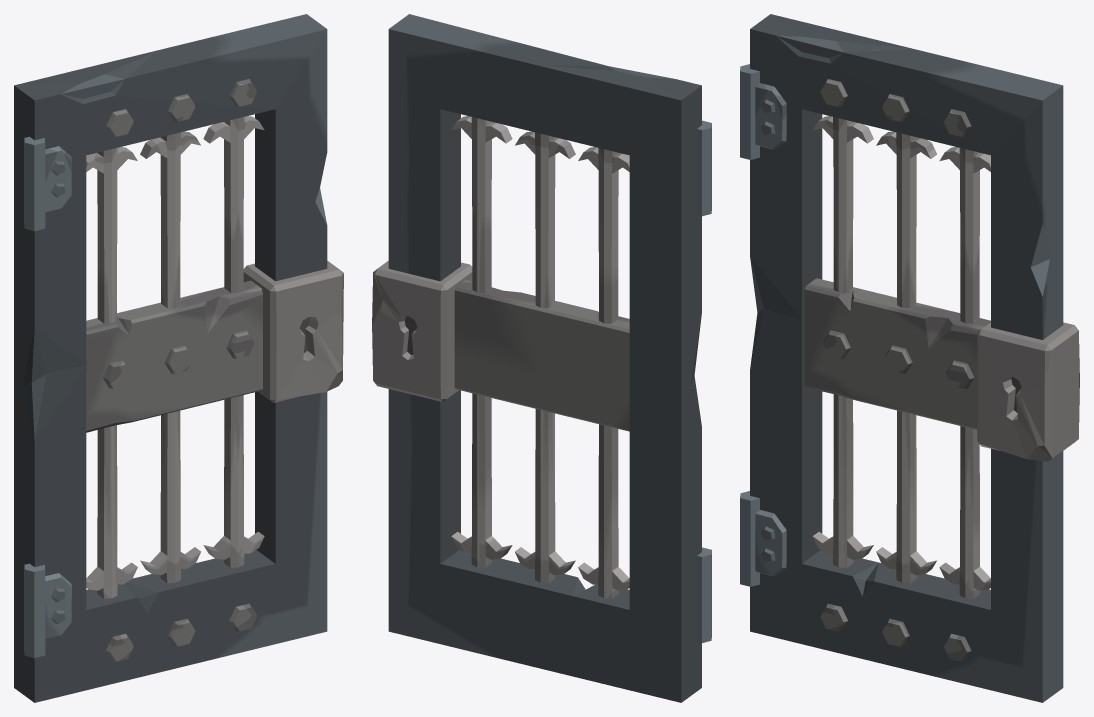
Rendered from crypt_crypt_door.gltf.
The picture shows the model from 3 angles, left to right: view 1: azimuth 30°, elevation 25°; view 2: azimuth 150°, elevation 25°; view 3: azimuth 330°, elevation 25°; orthographic projection.
Visible parts, largest first — view 1: crypt_crypt_door; view 2: crypt_crypt_door; view 3: crypt_crypt_door.
Boxes of the visible parts, box(x1,y1,x2,y2) form: crypt_crypt_door: box(14, 14, 343, 702); crypt_crypt_door: box(372, 14, 711, 702); crypt_crypt_door: box(740, 14, 1079, 702).
Size of the model in its own units: 1.08 by 1.97 by 0.1967.
Materials: 1 (1 with a texture image).
